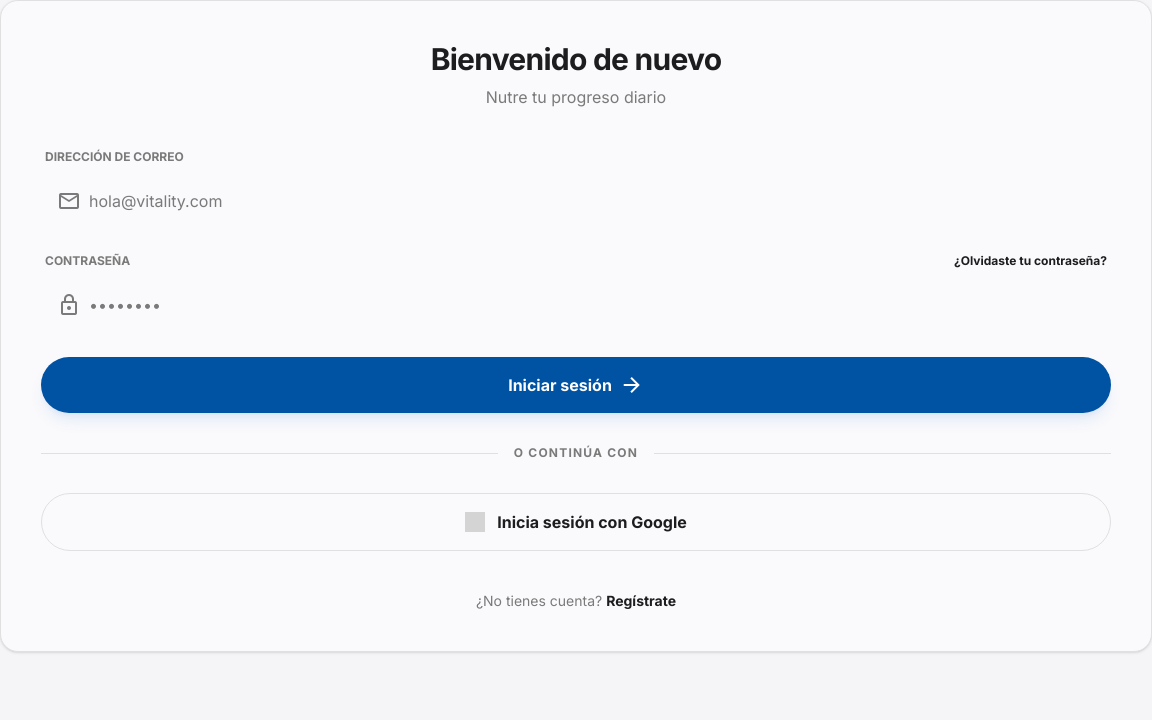
it: LoginForm › shows validation errors for empty fields
Click the button "Iniciar sesión" at [576, 385], box [41,357,1111,413]
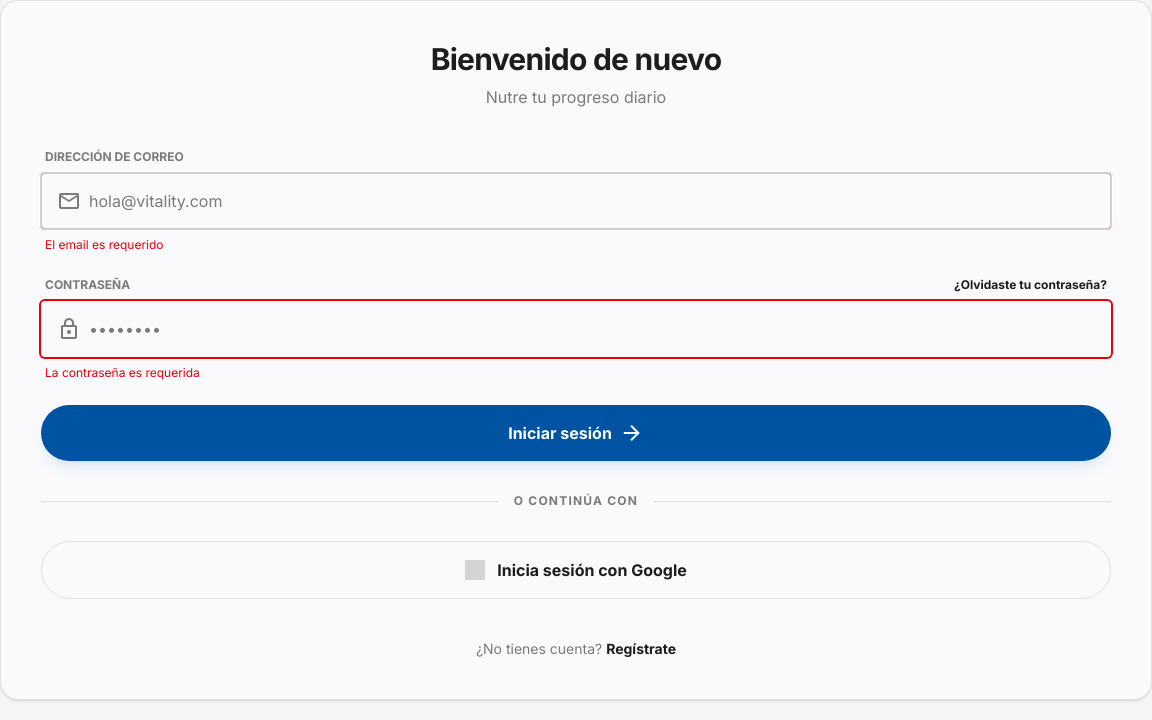
Result: the text "El email es requerido" is shown at [45,237,164,252]
Result: the text "La contraseña es requerida" is shown at [45,365,200,380]
